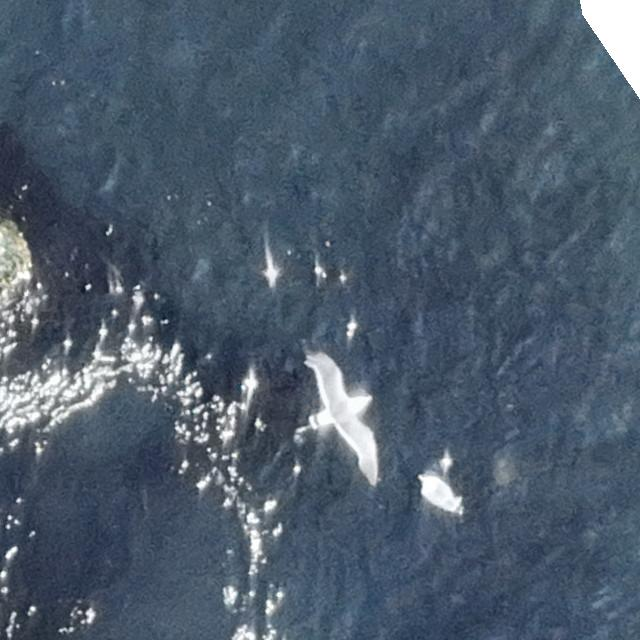F: (312, 356, 382, 481)
umineko: (423, 474, 461, 514)
